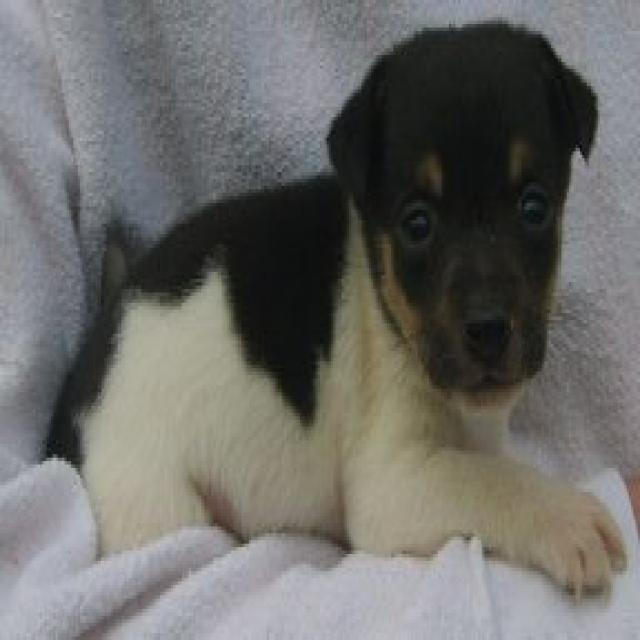Dogs: (42, 14, 634, 602)
